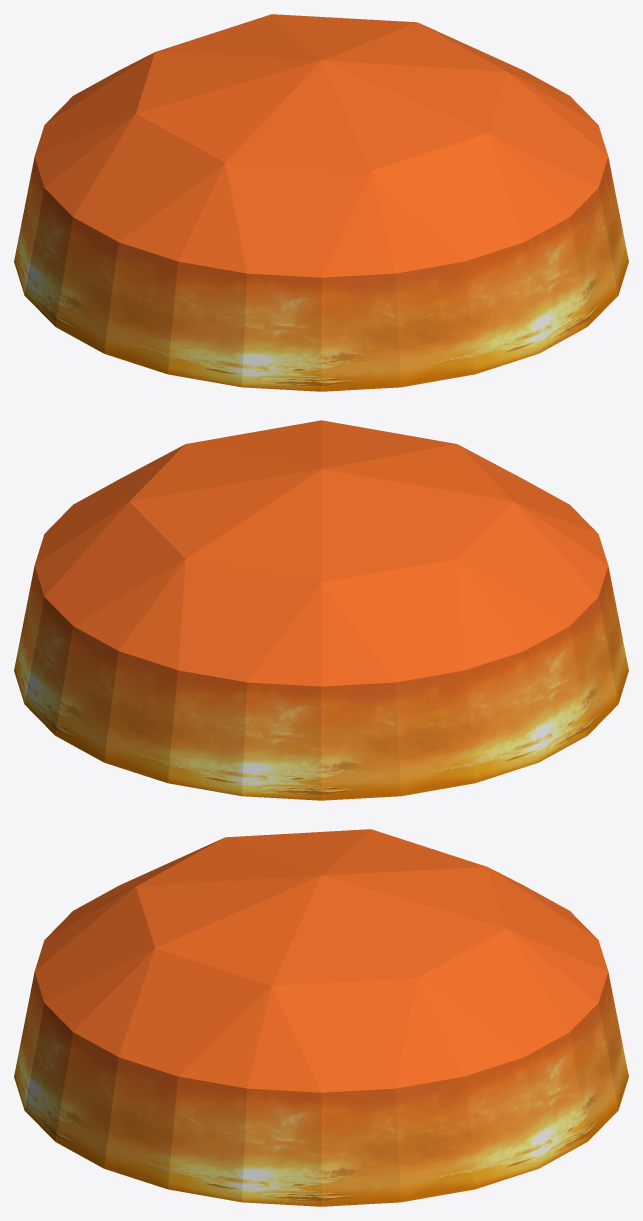
File: Seaside Hill 4.fbx
The picture shows the model from 3 angles, top to bottom: view 1: azimuth 30°, elevation 25°; view 2: azimuth 150°, elevation 25°; view 3: azimuth 270°, elevation 25°; orthographic projection.
Parts seen in each view (by area): view 1: Seaside hill 4; view 2: Seaside hill 4; view 3: Seaside hill 4.
Part boxes in pixels (x1,y1,x2,y2): Seaside hill 4: (14, 14, 628, 391); Seaside hill 4: (14, 420, 628, 800); Seaside hill 4: (14, 829, 628, 1206).
Bounding box in the file's own units: 10000000 × 3639154 × 9999999.
